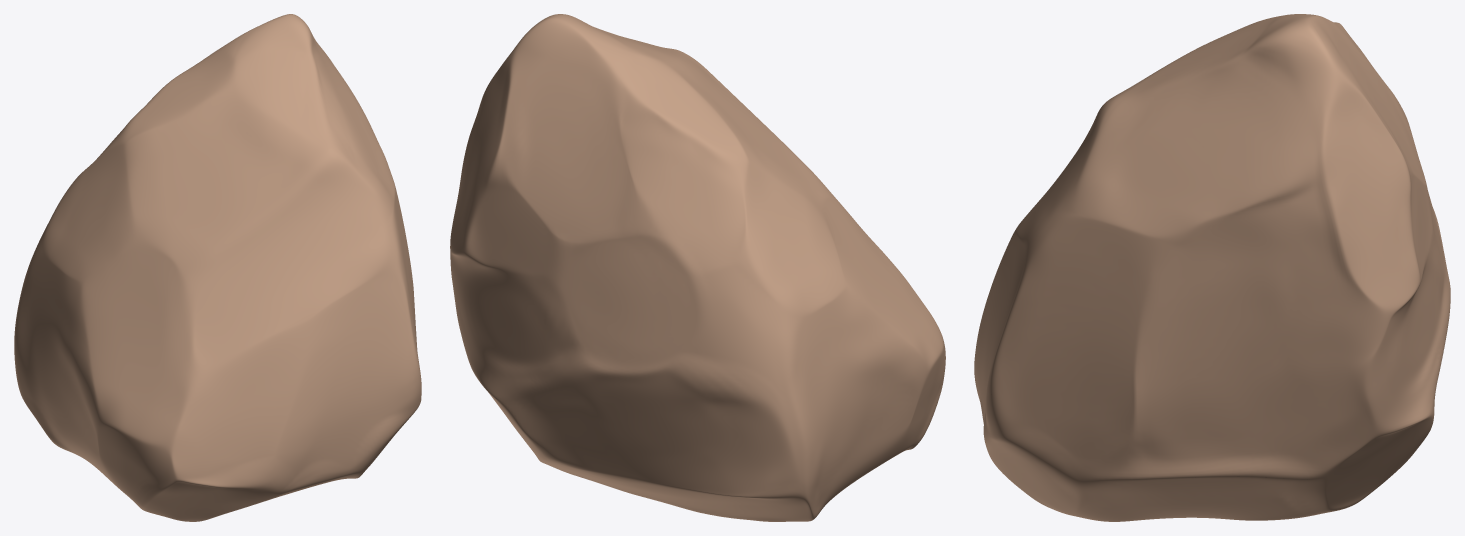
Rendered from Rock3_HP.FBX.
3 views of the same model, side by side, from view 1: azimuth 30°, elevation 25°; view 2: azimuth 150°, elevation 25°; view 3: azimuth 270°, elevation 25° (orthographic). The views are drawn at different scales.
Parts seen in each view (by area): view 1: Box004; view 2: Box004; view 3: Box004.
Part boxes in pixels (x1=…): Box004: x1=14, y1=14, x2=421, y2=521; Box004: x1=450, y1=14, x2=945, y2=521; Box004: x1=974, y1=14, x2=1450, y2=521.
Bounding box in the file's own units: 98.02 × 117 × 95.79.
